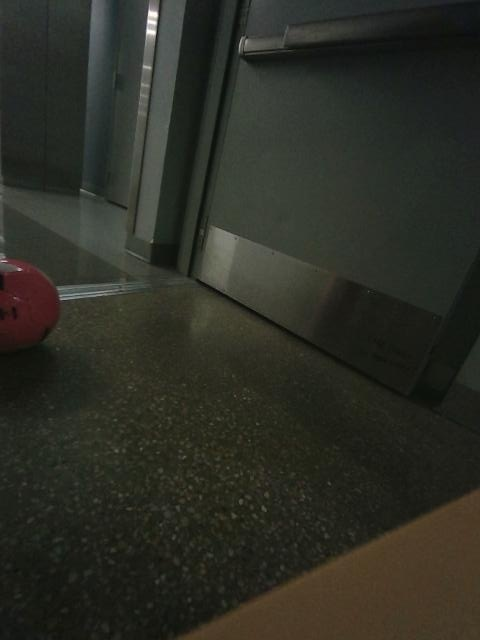ball: (0, 258, 58, 352)
